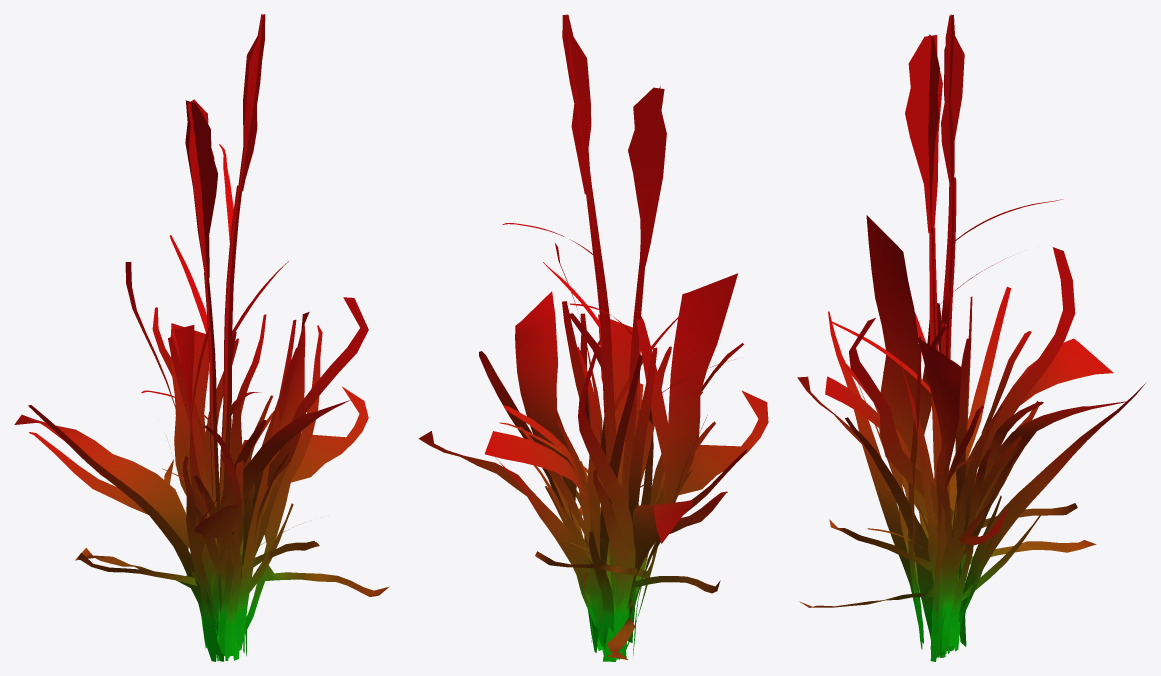
The model's file is sltiN_Var5_LOD0.fbx.
3 views of the same model, side by side, from view 1: azimuth 30°, elevation 25°; view 2: azimuth 150°, elevation 25°; view 3: azimuth 270°, elevation 25° (orthographic). The views are drawn at different scales.
Parts seen in each view (by area): view 1: _55a2_Var5_LOD0; view 2: _55a2_Var5_LOD0; view 3: _55a2_Var5_LOD0.
Boxes of the visible parts, left/top/right/bottom form: _55a2_Var5_LOD0: left=14, top=14, right=389, bottom=661; _55a2_Var5_LOD0: left=418, top=14, right=768, bottom=661; _55a2_Var5_LOD0: left=797, top=14, right=1146, bottom=661.
Size of the model in its own units: 16.54 by 30.13 by 14.45.
